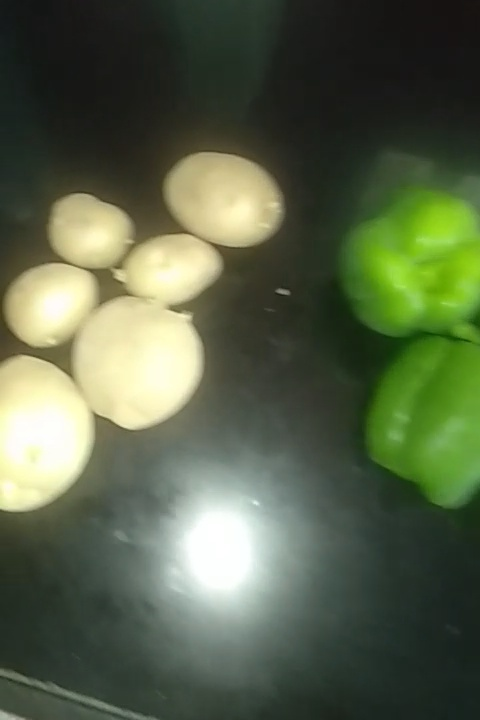capsicum: (361, 321, 480, 514), (343, 198, 480, 337)
potato: (73, 296, 193, 433), (1, 353, 89, 517), (167, 152, 282, 257), (120, 229, 217, 311), (4, 259, 91, 342), (45, 190, 133, 271)
